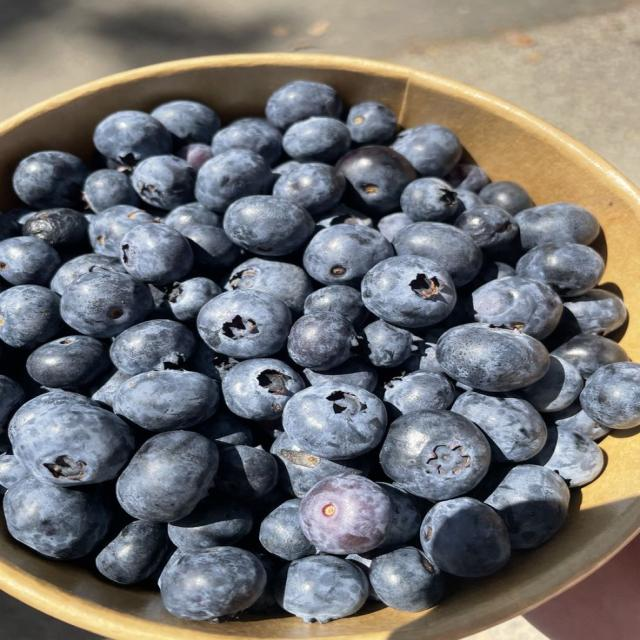blueberry: (380, 410, 491, 501), (13, 404, 134, 485), (117, 431, 218, 521), (4, 478, 111, 559), (283, 381, 386, 459), (161, 547, 266, 621), (437, 323, 549, 391), (300, 475, 392, 554), (420, 498, 510, 577), (486, 465, 569, 548), (361, 256, 456, 327), (452, 391, 546, 462), (114, 370, 219, 431), (197, 290, 291, 358), (271, 432, 369, 497), (276, 556, 369, 623), (60, 271, 153, 337), (472, 276, 562, 339), (394, 222, 482, 286), (304, 225, 393, 286), (224, 196, 314, 255), (337, 146, 416, 213), (222, 359, 305, 420), (225, 258, 313, 315), (168, 494, 253, 553), (195, 149, 273, 212), (369, 547, 444, 611), (110, 320, 195, 375), (516, 243, 604, 296), (96, 521, 168, 584), (120, 224, 193, 284), (13, 151, 88, 209), (8, 391, 96, 440), (531, 428, 604, 487), (94, 111, 172, 166), (27, 336, 109, 388), (287, 312, 356, 370), (515, 203, 599, 249), (0, 285, 61, 348), (580, 363, 639, 428), (274, 163, 346, 215), (266, 81, 342, 129), (89, 205, 157, 258), (392, 124, 461, 176), (520, 355, 582, 412), (132, 155, 195, 210), (260, 499, 315, 561), (215, 445, 278, 499), (553, 335, 629, 379), (212, 118, 282, 165), (384, 371, 454, 417), (282, 117, 351, 163), (50, 254, 125, 295), (180, 224, 240, 274), (152, 100, 220, 144), (0, 236, 60, 285), (455, 205, 518, 250), (378, 483, 421, 548), (564, 290, 627, 334), (304, 285, 368, 327), (400, 178, 459, 221), (548, 401, 610, 441), (83, 169, 139, 213), (165, 277, 221, 321), (304, 359, 377, 392), (23, 209, 88, 245), (364, 320, 413, 367), (194, 409, 253, 448), (187, 340, 239, 382), (247, 553, 282, 615), (347, 102, 397, 144), (479, 181, 532, 215), (163, 202, 221, 232), (90, 370, 133, 408), (401, 335, 444, 373), (316, 203, 374, 229), (0, 376, 25, 431), (317, 205, 373, 228), (447, 164, 489, 193), (158, 549, 188, 588), (0, 454, 30, 492), (378, 213, 413, 242), (177, 143, 213, 171), (478, 259, 515, 283), (346, 552, 376, 578), (455, 188, 482, 215), (273, 160, 303, 176), (18, 211, 37, 227)
